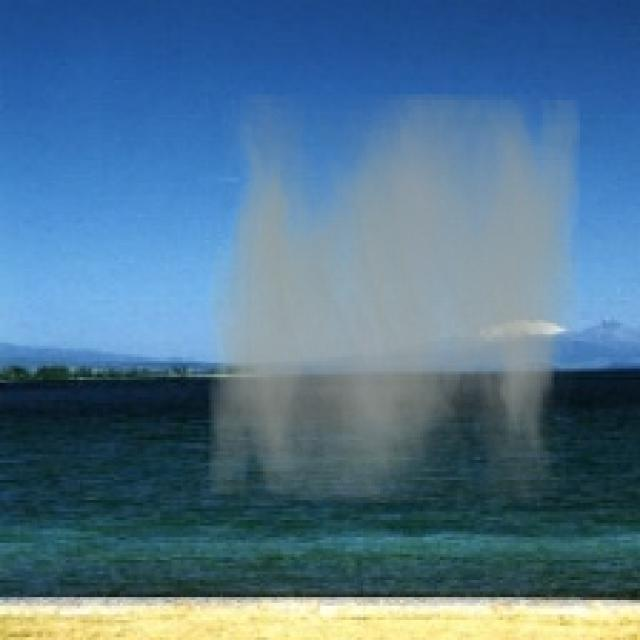smoke: (209, 94, 580, 503)
